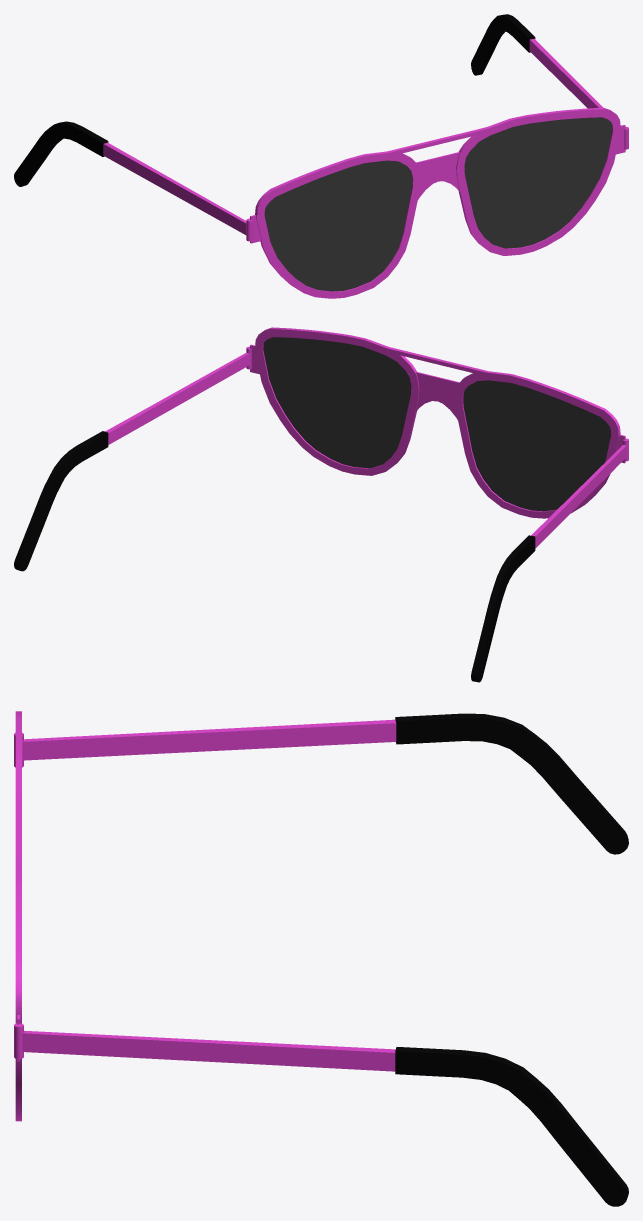
Rendered from glasses4.001.fbx.
The picture shows the model from 3 angles, top to bottom: view 1: azimuth 30°, elevation 25°; view 2: azimuth 150°, elevation 25°; view 3: azimuth 270°, elevation 25°; orthographic projection. The views are drawn at different scales.
Parts seen in each view (by area): view 1: glasses4.001; view 2: glasses4.001; view 3: glasses4.001.
Boxes of the visible parts, left/top/right/bottom form: glasses4.001: left=14, top=14, right=628, bottom=298; glasses4.001: left=14, top=327, right=628, bottom=682; glasses4.001: left=14, top=711, right=628, bottom=1206.
Size of the model in its own units: 2.02 by 0.5718 by 1.47.
